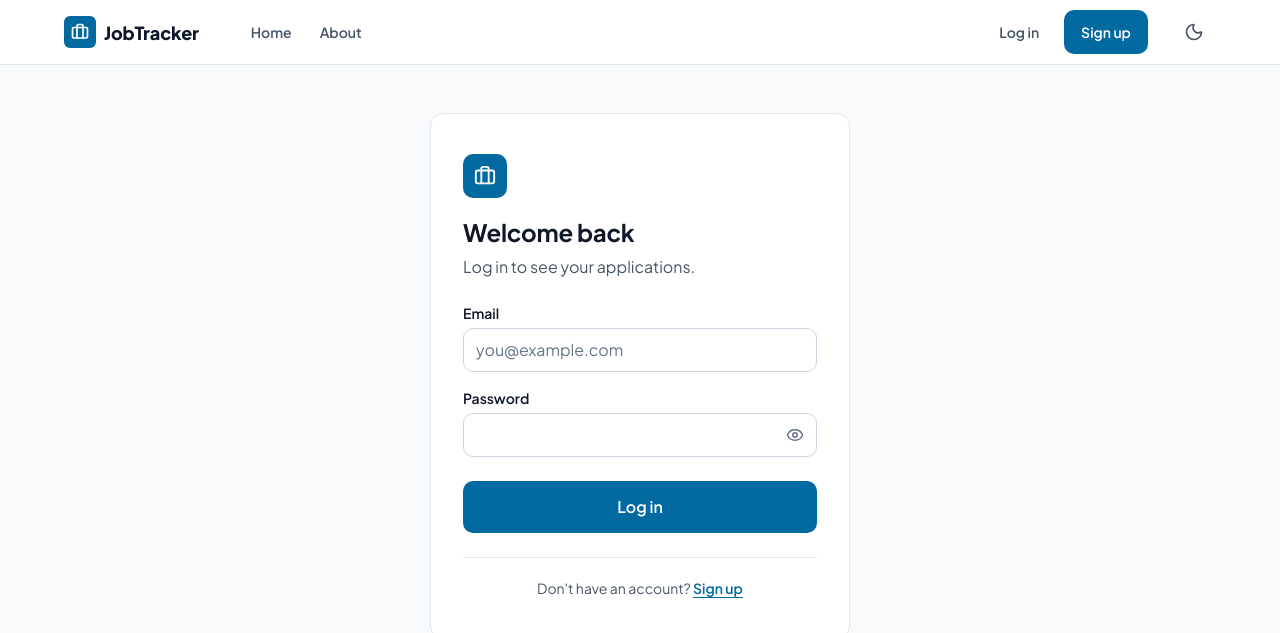
it: App › replaces an old plain text password with a hash on first login
This screenshot has width=1280, height=633.
In the field labelled "Email": (640, 350) [463, 328, 817, 372], type "old@example.com"
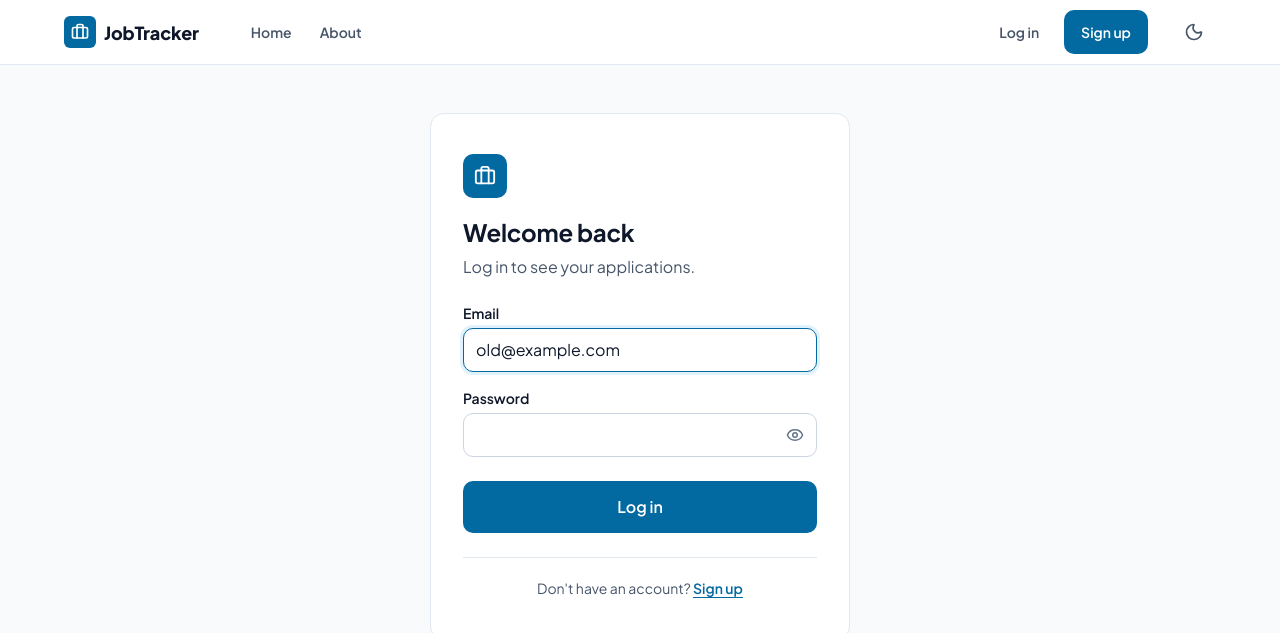
In the password field labelled "Password": (640, 435) [463, 413, 817, 457], type "oldpass"
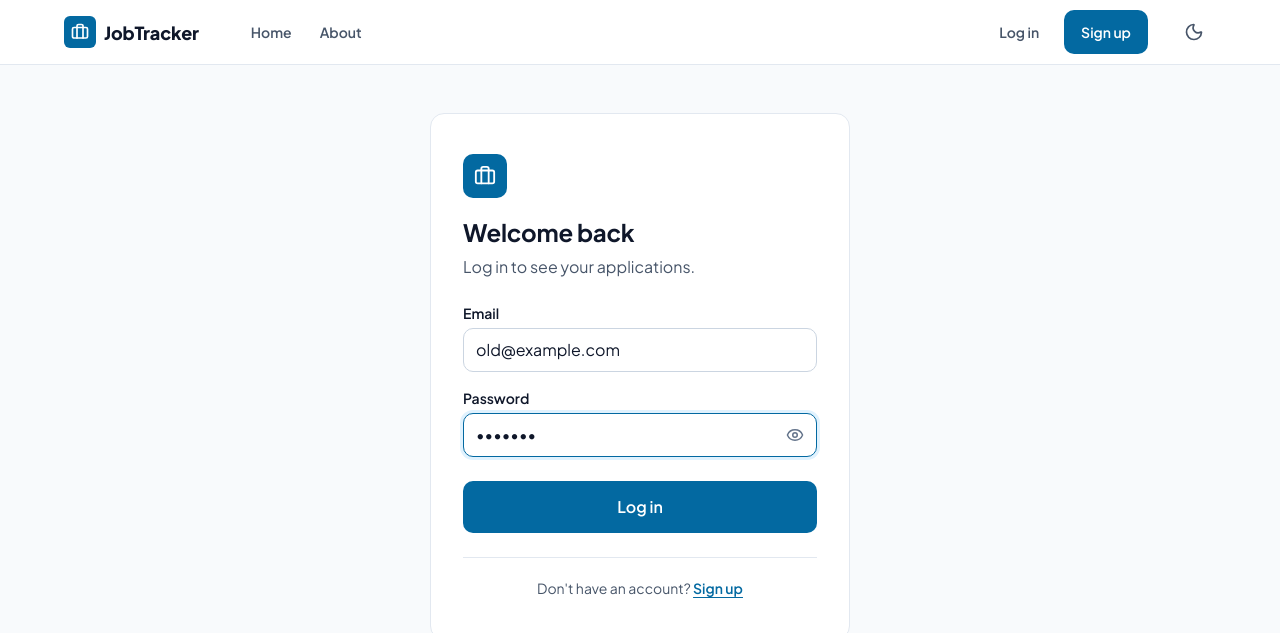
Click the button "Log in": (640, 507) [463, 481, 817, 533]
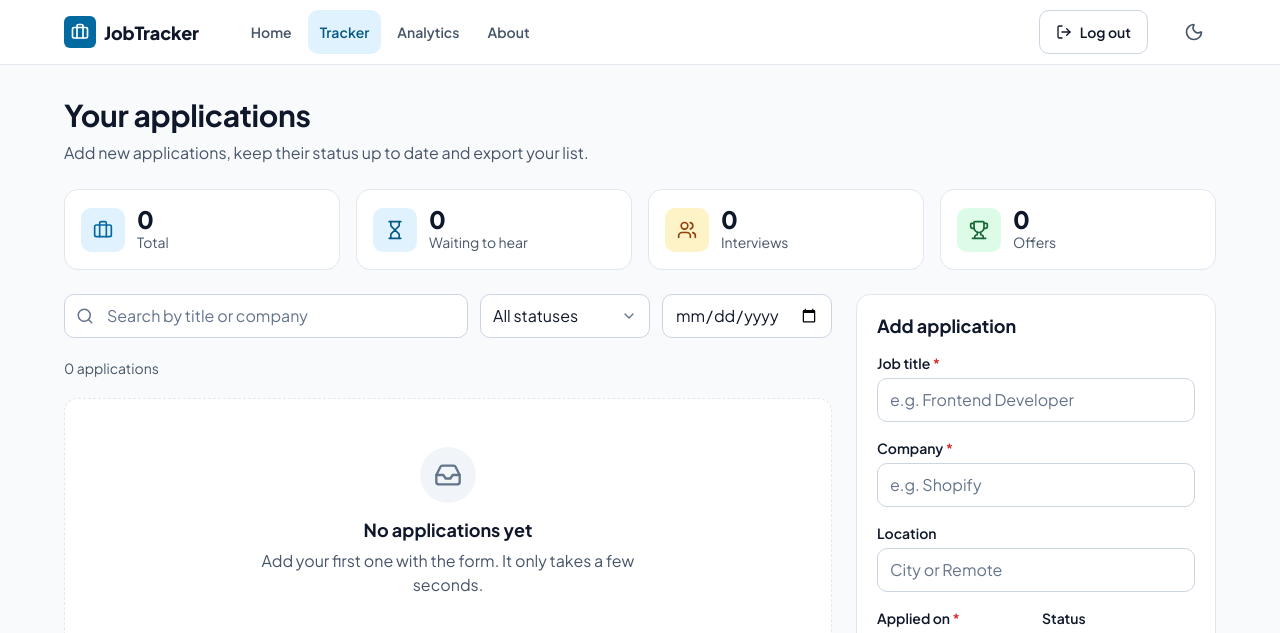
Expected: the heading "Your applications" is shown, [64, 96, 311, 134]
